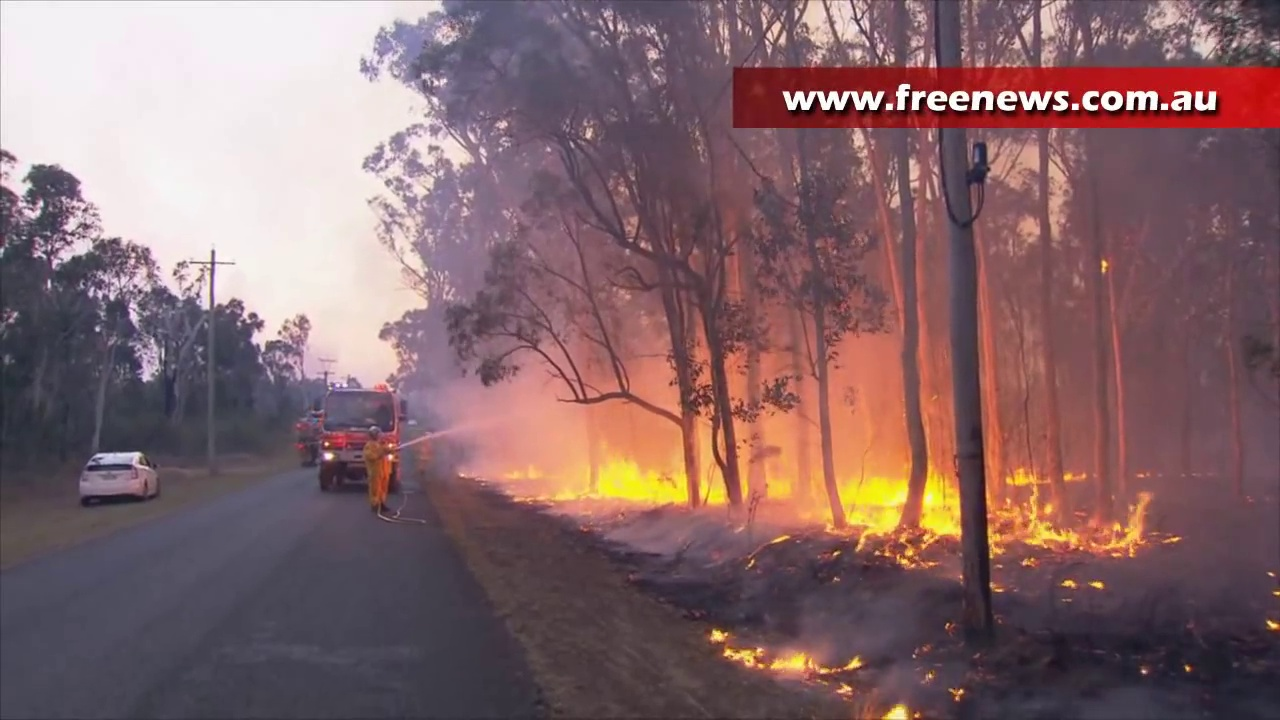fire: (847, 472, 962, 562), (1013, 498, 1144, 556), (605, 466, 688, 504), (731, 641, 813, 676)
